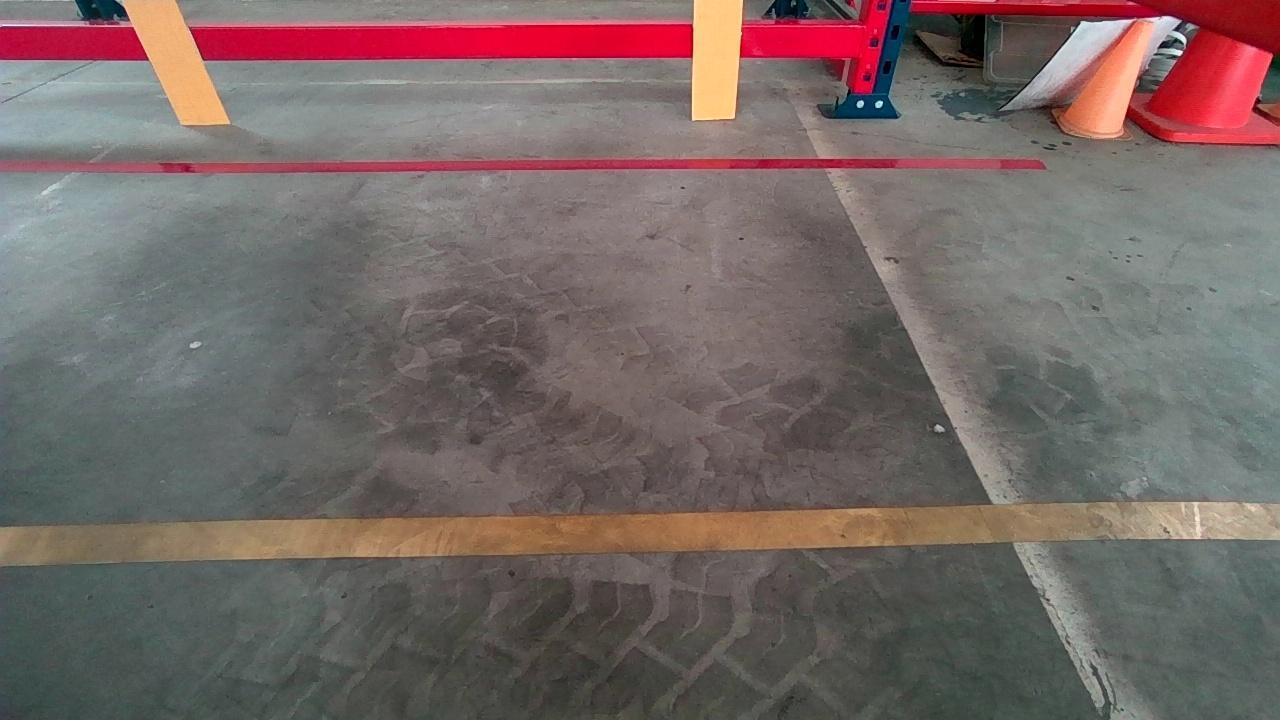orange_strip: (122, 0, 231, 121), (691, 0, 741, 119)
red_line: (4, 149, 1037, 185)
